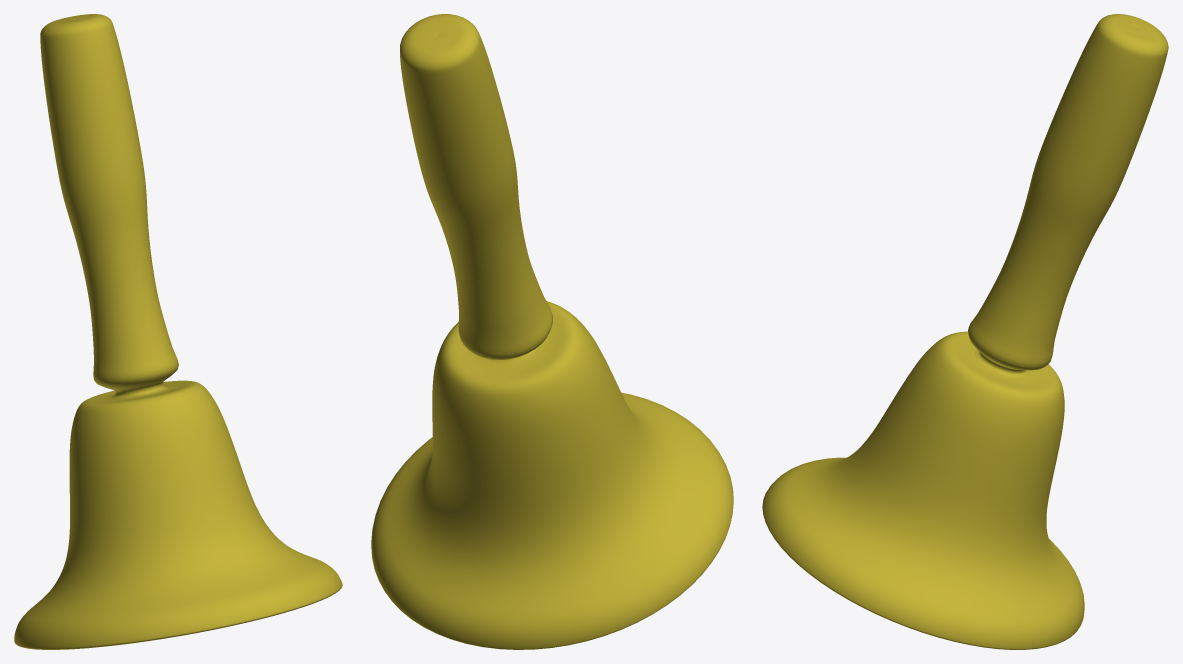
File: bells.glb
The picture shows the model from 3 angles, left to right: view 1: azimuth 30°, elevation 25°; view 2: azimuth 150°, elevation 25°; view 3: azimuth 270°, elevation 25°; orthographic projection. The views are drawn at different scales.
Visible parts, largest first — view 1: 1; view 2: 1; view 3: 1.
Part boxes in pixels (x1,y1,x2,y2): 1: [14, 14, 342, 649]; 1: [371, 14, 733, 649]; 1: [762, 14, 1168, 649].
Bounding box in the file's own units: 0.4447 × 0.8507 × 0.528.
